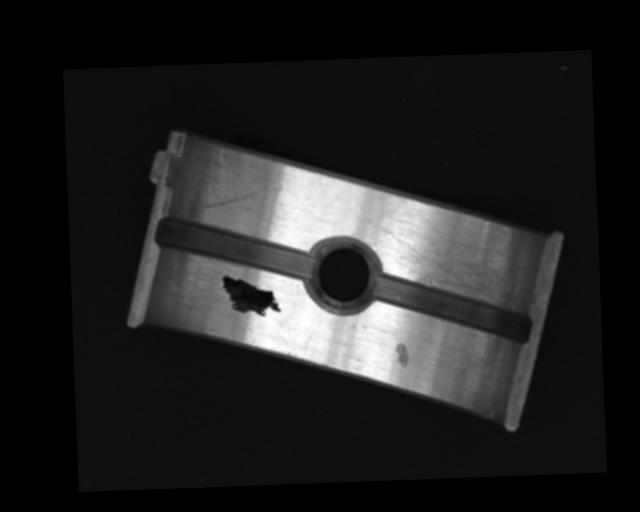blot: (221, 271, 282, 318)
bruise: (394, 342, 409, 368)
gap: (371, 266, 532, 348), (154, 212, 316, 285)
hole: (307, 237, 383, 313)
nick: (199, 183, 283, 210)
scratch: (383, 223, 531, 313)
